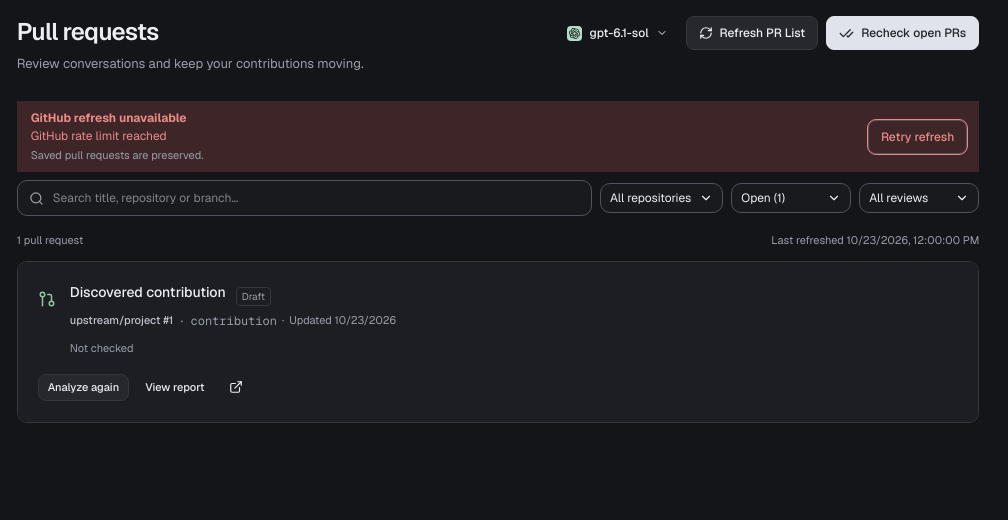
merges duplicate discoveries, filters saved metadata and retains rows after a failed refresh
The width and height of the screenshot is (1008, 520).
Check: the number of buttons "Discovered contribution" is 1, box [70,282,226,303]
Check: the message shows "GitHub rate limit reached", box [31,128,167,144]
Type "not found" into the field named "Search pull requests" at (304, 198), box [17,180,592,216]
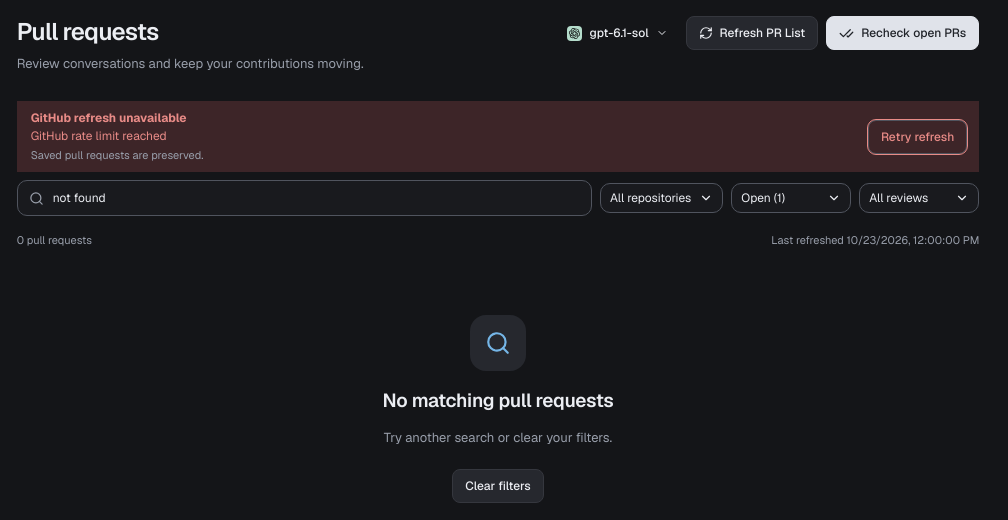
Check: the heading "No matching pull requests" is shown, box [383,387,614,415]
Click the button "Clear filters" at (498, 486), box [452,469,544,503]
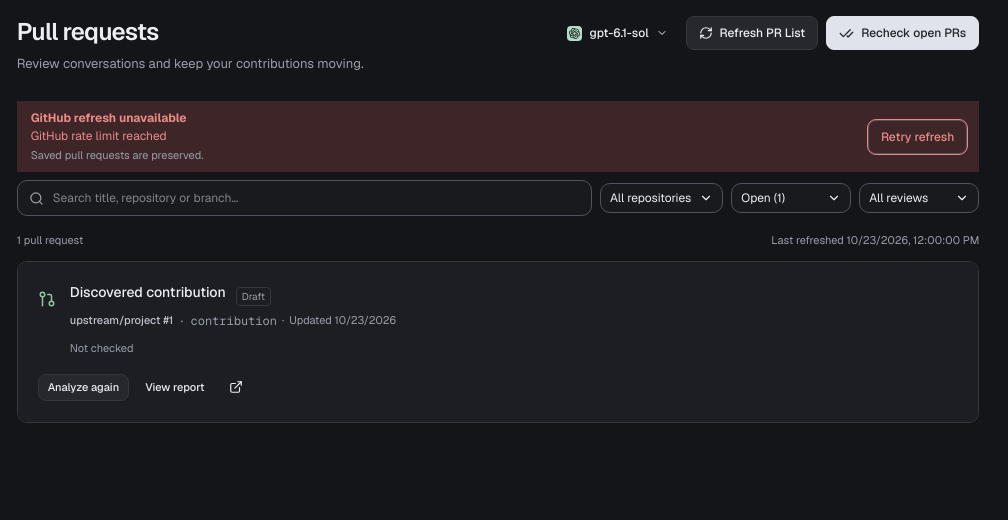
Check: the button "Discovered contribution" is shown, box [70,282,226,303]
Click the dropdown named "Filter by status" at (791, 198), box [731,183,851,213]
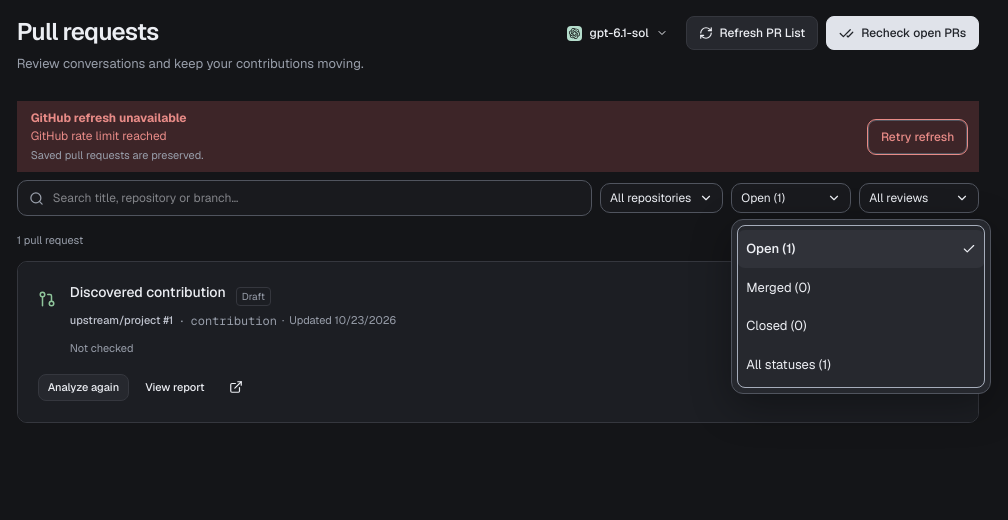
Click the option "Merged (0)" at (778, 287), box [746,279,811,296]
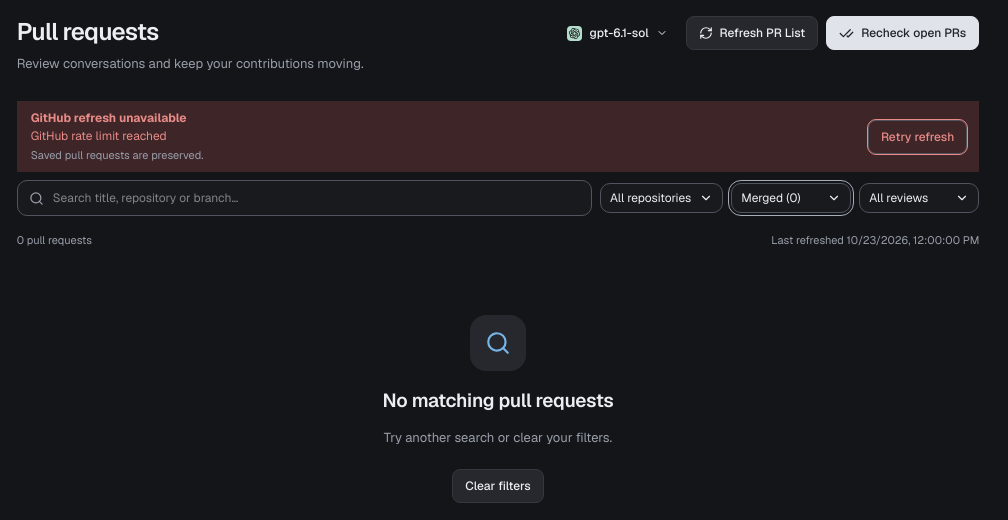
Check: the button "Discovered contribution" is gone
